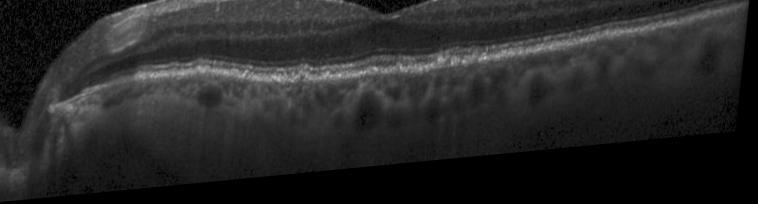retinal_drusen: (296, 79, 313, 90), (445, 67, 455, 77), (246, 76, 254, 84), (397, 74, 404, 82), (197, 74, 202, 81), (206, 72, 211, 79), (349, 82, 354, 87), (328, 82, 332, 87), (367, 80, 372, 84), (362, 81, 366, 86), (318, 85, 322, 89), (354, 83, 358, 87), (342, 83, 345, 87), (358, 83, 361, 86), (324, 84, 326, 88)
